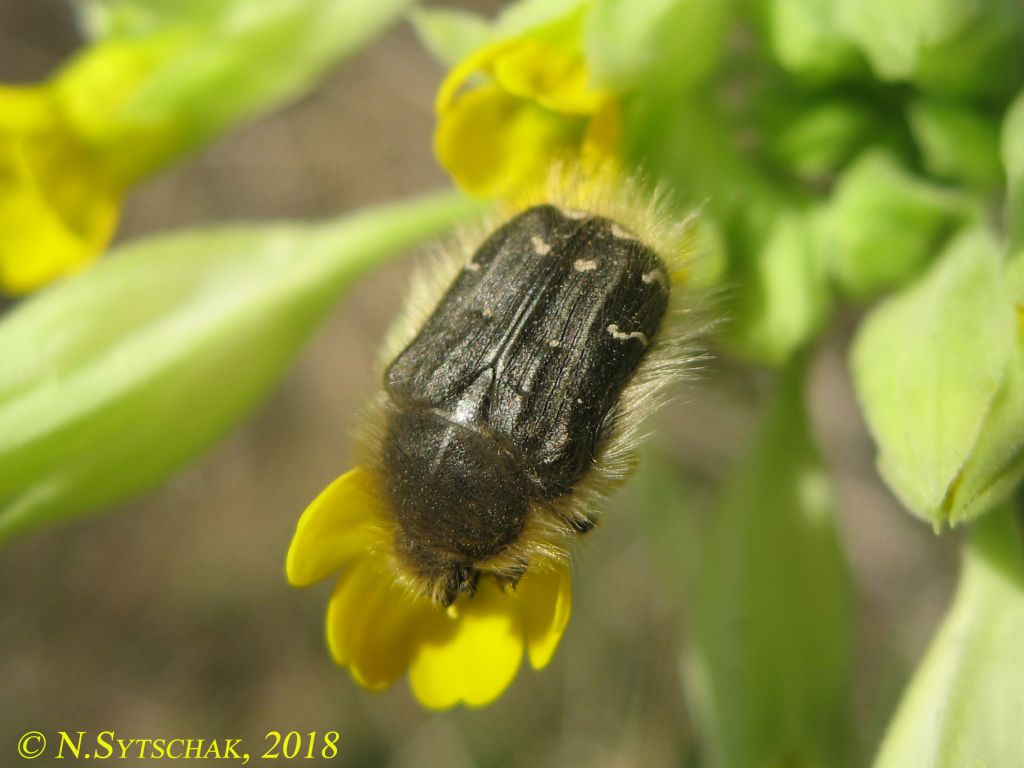Tropinota_hirta: (348, 135, 776, 617)
